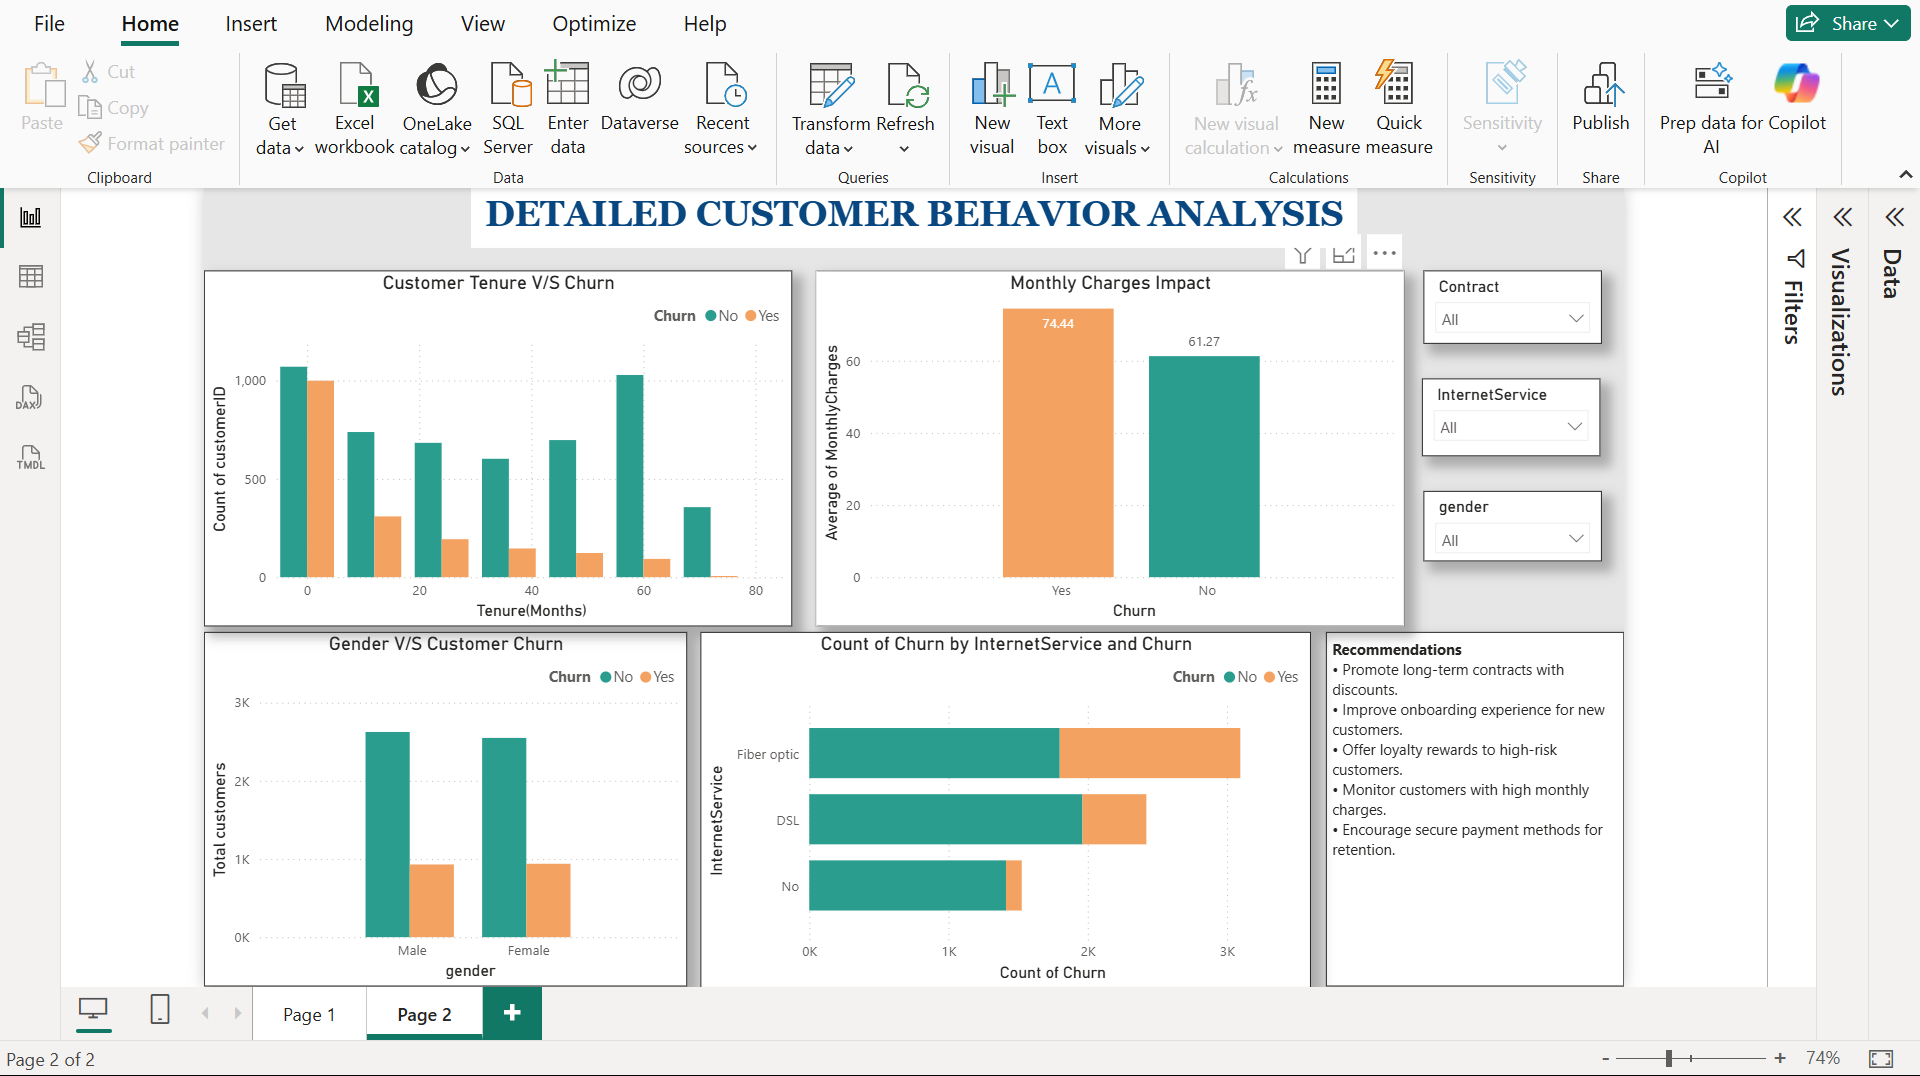

Layout of this report page (visuals, bound fields, positions):
{"tool":"powerbi","page":{"name":"Page 2","canvas":[1280,720],"ordinal":1},"visuals":[{"type":"clusteredColumnChart","title":"Gender V/S Customer Churn","fields":{"Category":["cleaned_customer_churn.gender"],"Y":["CountNonNull(cleaned_customer_churn.customerID)"],"Series":["cleaned_customer_churn.Churn"]},"box":[0,400.1,435.3,319],"z":0},{"type":"textbox","box":[1011.1,400.1,269,319],"z":1000},{"type":"clusteredColumnChart","title":"Customer Tenure V/S Churn","fields":{"Series":["cleaned_customer_churn.Churn"],"Y":["CountNonNull(cleaned_customer_churn.customerID)"],"Category":["cleaned_customer_churn.tenure (bins)"]},"box":[0,74.3,529.9,320.4],"z":2000},{"type":"columnChart","title":"Monthly Charges Impact","fields":{"Category":["cleaned_customer_churn.Churn"],"Y":["Avg(cleaned_customer_churn.MonthlyCharges)"]},"box":[551.5,74.3,529.9,320.4],"z":3000},{"type":"slicer","fields":{"Values":["cleaned_customer_churn.InternetService"]},"box":[1097.6,171.7,160.9,70.3],"z":4000},{"type":"slicer","fields":{"Values":["cleaned_customer_churn.gender"]},"box":[1098.9,273,160.9,63.5],"z":5000},{"type":"textbox","box":[240.6,0,798.9,54.1],"z":6000},{"type":"barChart","fields":{"Category":["cleaned_customer_churn.InternetService"],"Y":["CountNonNull(cleaned_customer_churn.Churn)"],"Series":["cleaned_customer_churn.Churn"]},"box":[447.4,400.1,550.1,320.4],"z":7000},{"type":"slicer","fields":{"Values":["cleaned_customer_churn.Contract"]},"box":[1098.9,74.3,160.9,66.2],"z":8000}]}

Visuals, with their boxes on the page's 1280x720 design canvas (x1, y1, x2, y2). These are canvas units, not pixel positions in the 1920x1076 screenshot, which may show the page scaled, cropped or inside an application window:
"Gender V/S Customer Churn" clusteredColumnChart: [left=0, top=400, right=435, bottom=719]
textbox: [left=1011, top=400, right=1280, bottom=719]
"Customer Tenure V/S Churn" clusteredColumnChart: [left=0, top=74, right=530, bottom=395]
"Monthly Charges Impact" columnChart: [left=552, top=74, right=1081, bottom=395]
slicer - cleaned_customer_churn.InternetService: [left=1098, top=172, right=1258, bottom=242]
slicer - cleaned_customer_churn.gender: [left=1099, top=273, right=1260, bottom=336]
textbox: [left=241, top=0, right=1040, bottom=54]
barChart - cleaned_customer_churn.InternetService x CountNonNull(cleaned_customer_churn.Churn): [left=447, top=400, right=998, bottom=720]
slicer - cleaned_customer_churn.Contract: [left=1099, top=74, right=1260, bottom=140]
